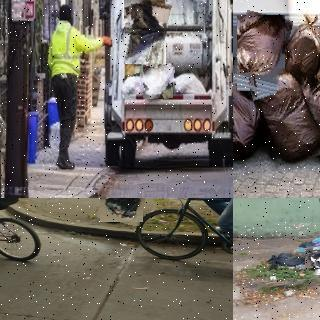Garbage: (253, 65, 320, 166), (233, 13, 289, 93), (120, 0, 169, 66), (233, 77, 262, 162), (283, 9, 320, 73), (141, 62, 175, 99), (98, 198, 144, 224), (307, 74, 320, 164), (174, 71, 205, 93), (120, 73, 148, 97), (269, 253, 305, 267), (304, 247, 320, 269)
